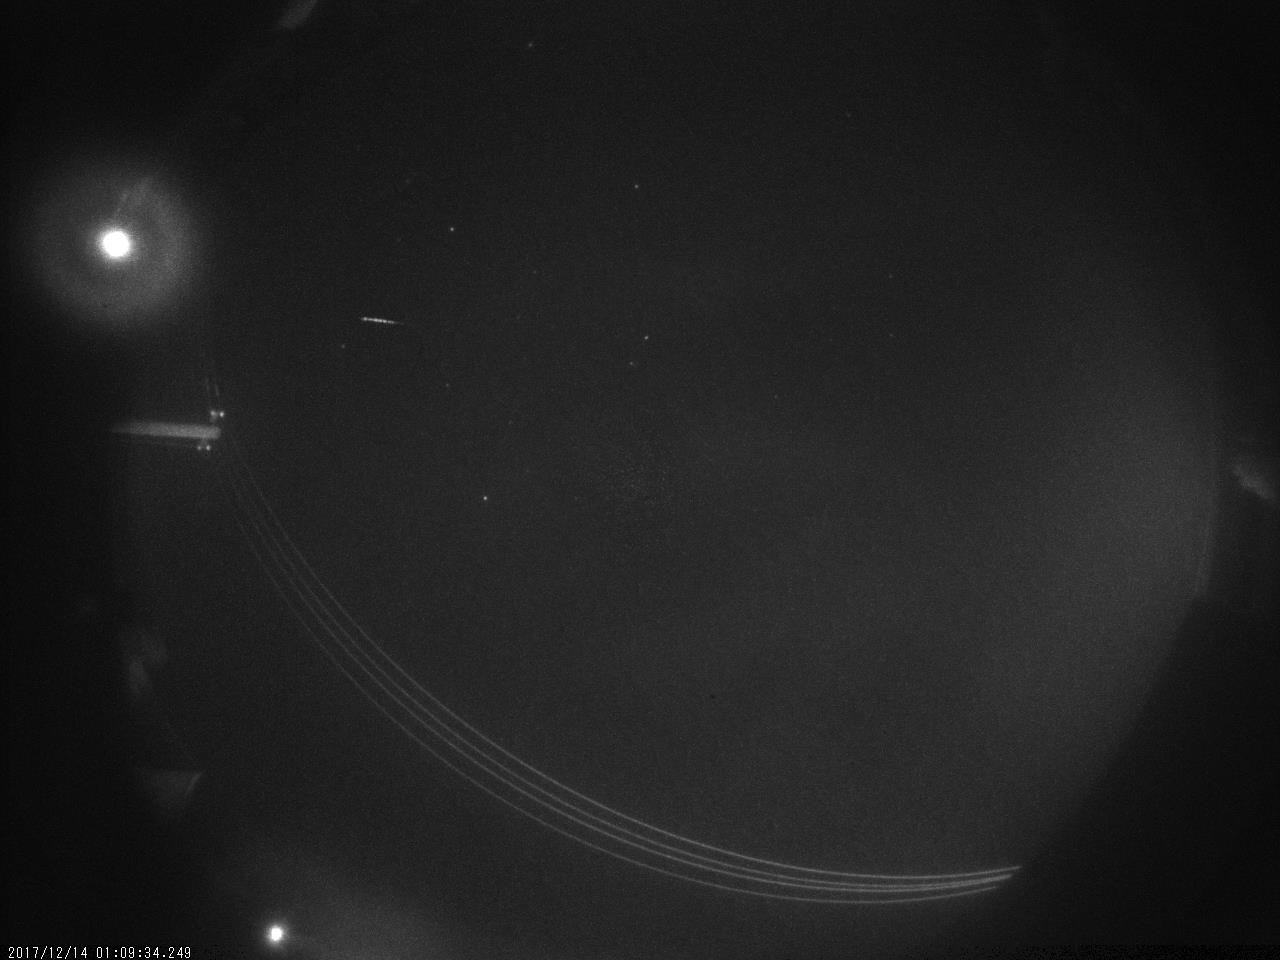meteor: (349, 304, 419, 339)
